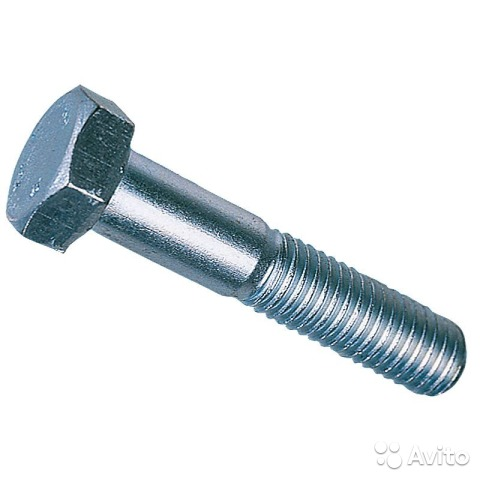screw: (6, 84, 467, 396)
